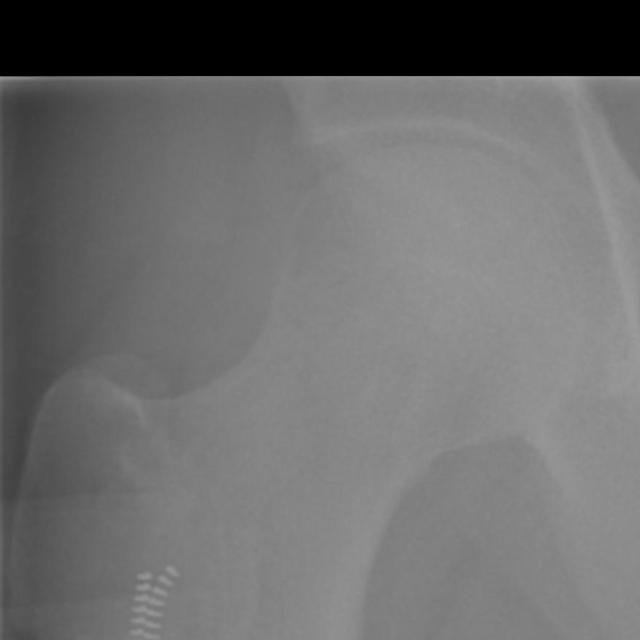Fitted_femural_head: (305, 148, 432, 305)
